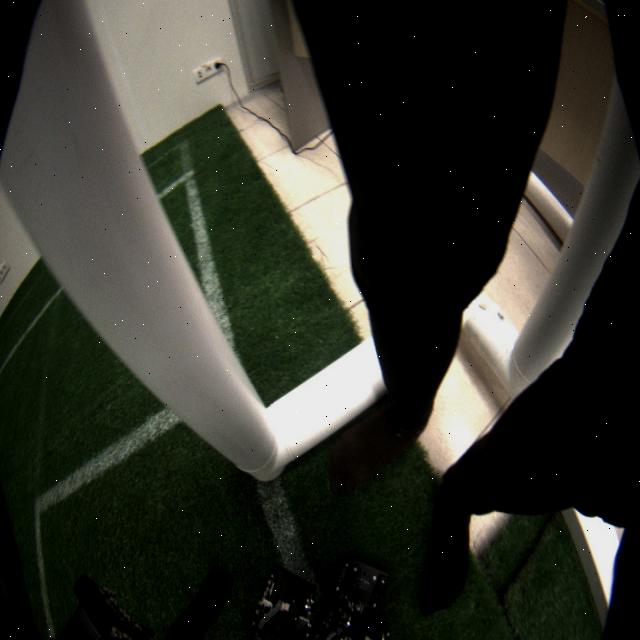goalpost: (1, 2, 282, 490)
